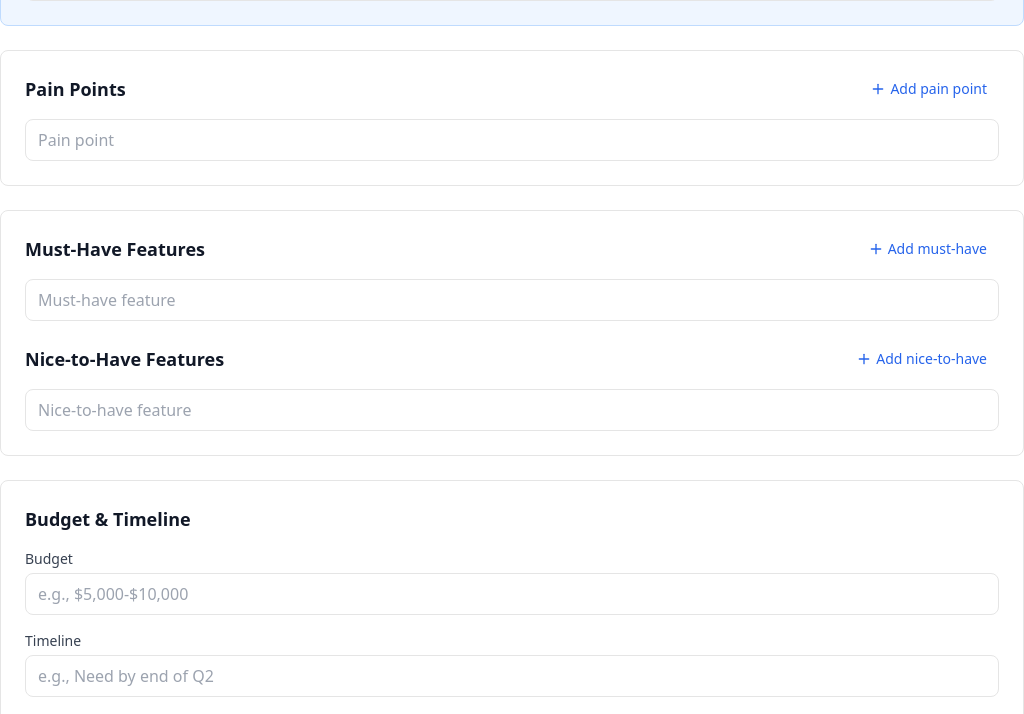
Test: ClientInfoForm › Features Section › should allow adding nice-to-have features
(page scrolled)
Click the button "Add nice-to-have".
click(922, 359)  # box [844,345,999,373]
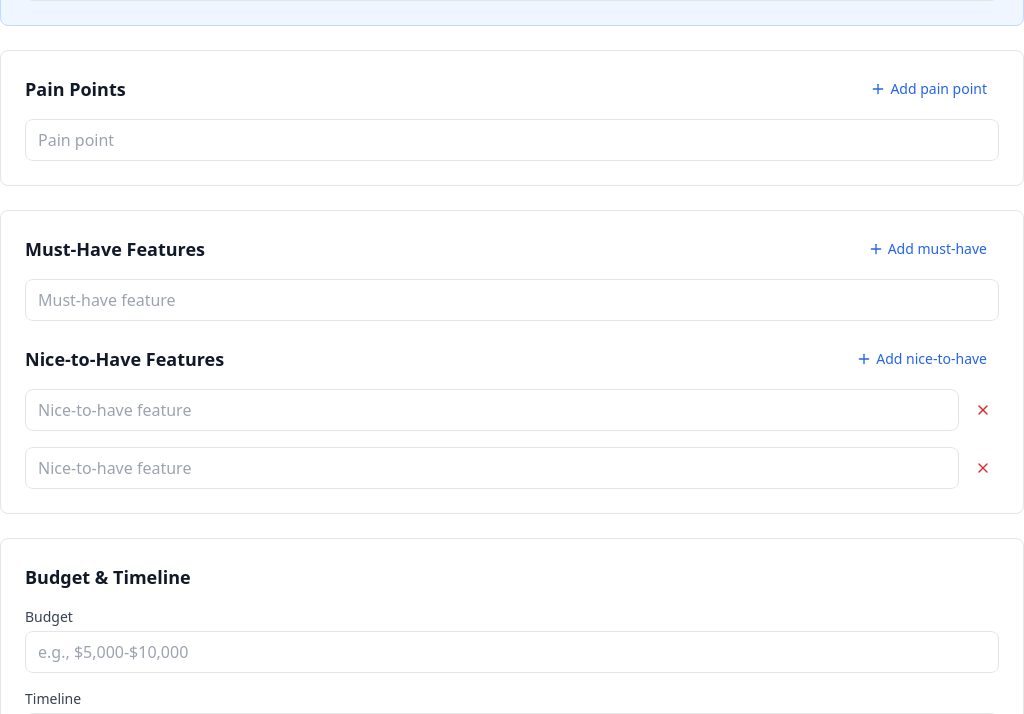
Expected: the number of fields with placeholder "Nice-to-have feature" is 2, [25,389,959,431]; [25,447,959,489]
